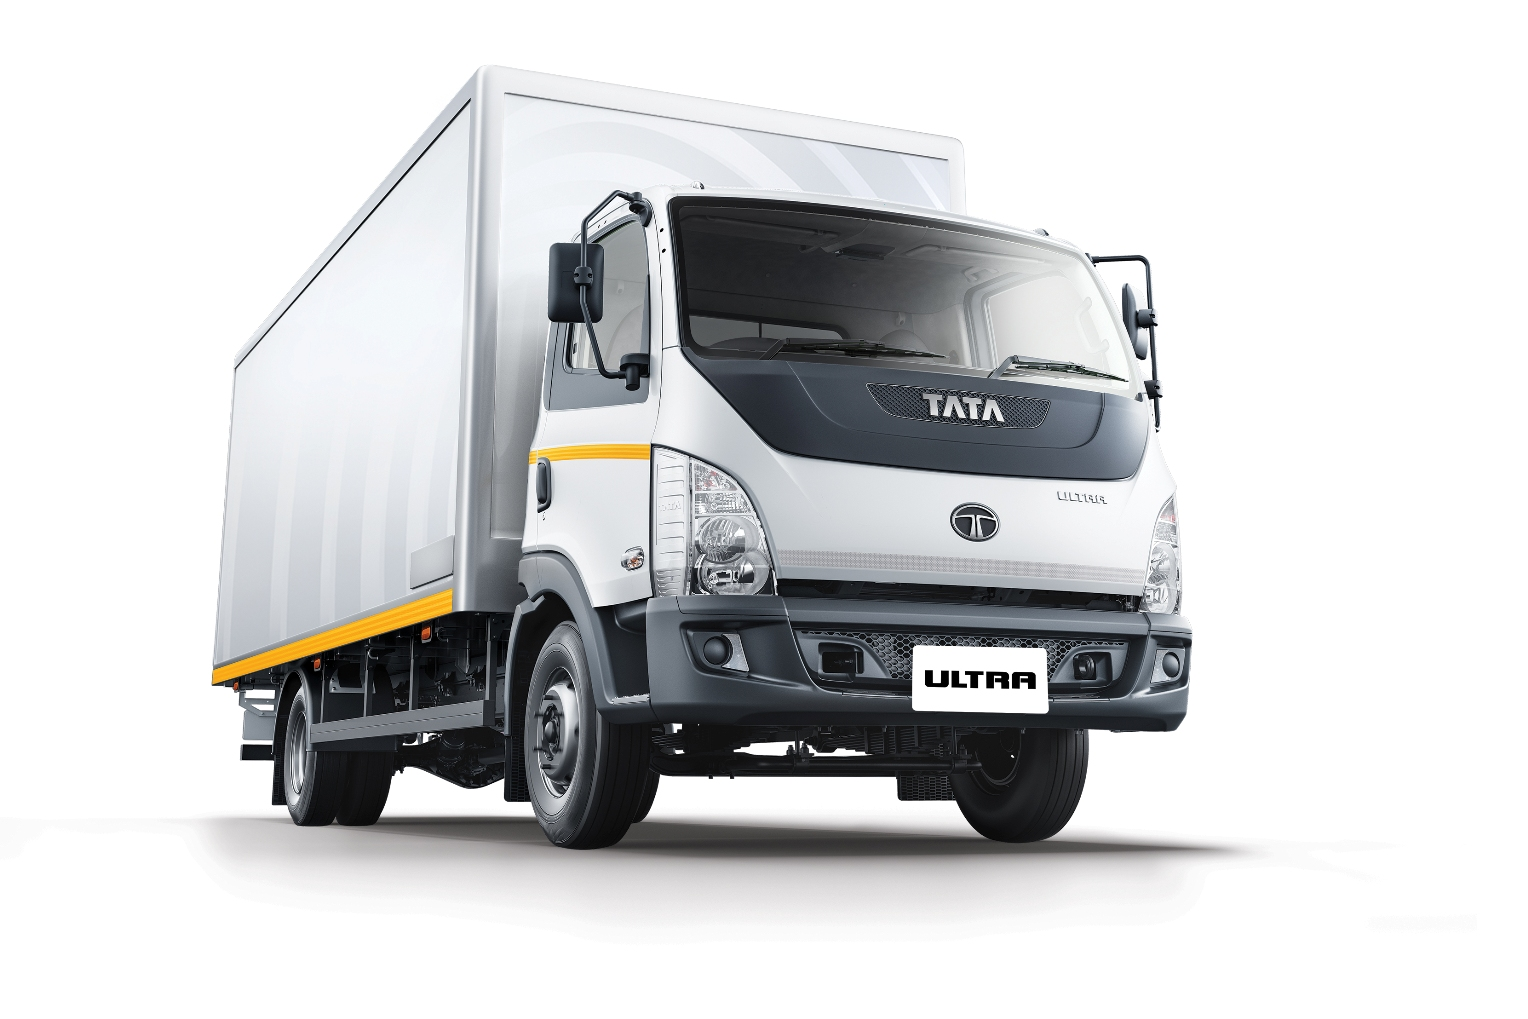truck: (208, 63, 1199, 853)
